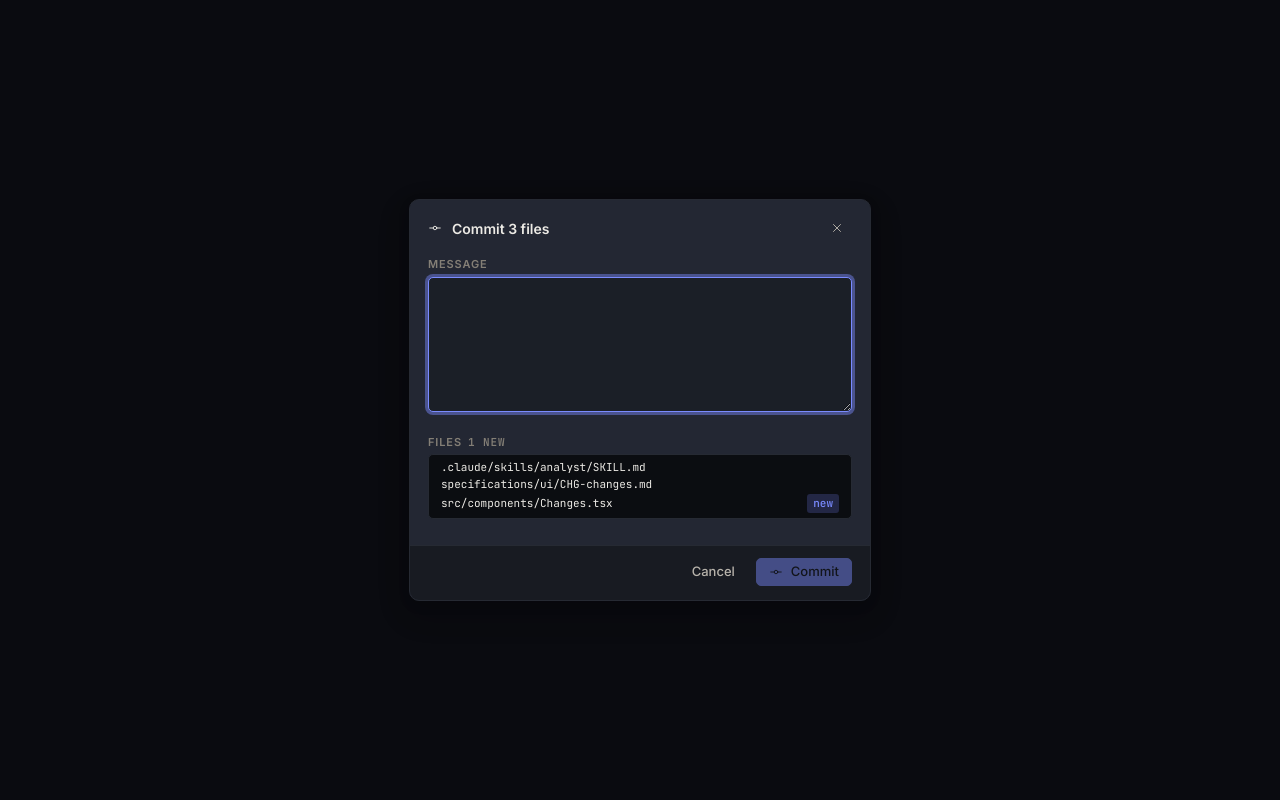
it: committing › CMW-FR-08, GTC-FR-20 keeps the window open with the message intact when the commit is rejected
The image size is (1280, 800).
Step 1. Type "add analyst skill" into the text box named "Commit message" → (640, 344), box x1=428 y1=277 x2=852 y2=412
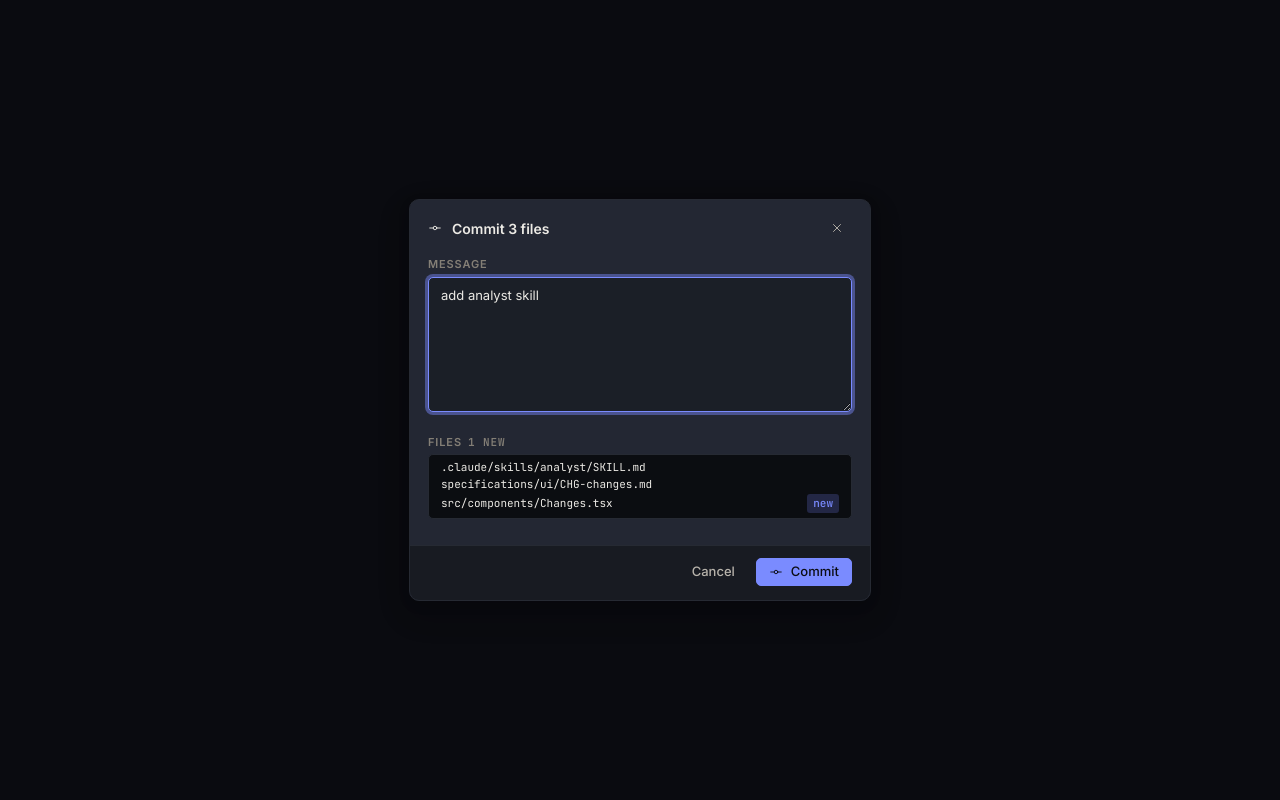
Step 2. Click the button "Commit" → (804, 572), box x1=756 y1=558 x2=852 y2=586
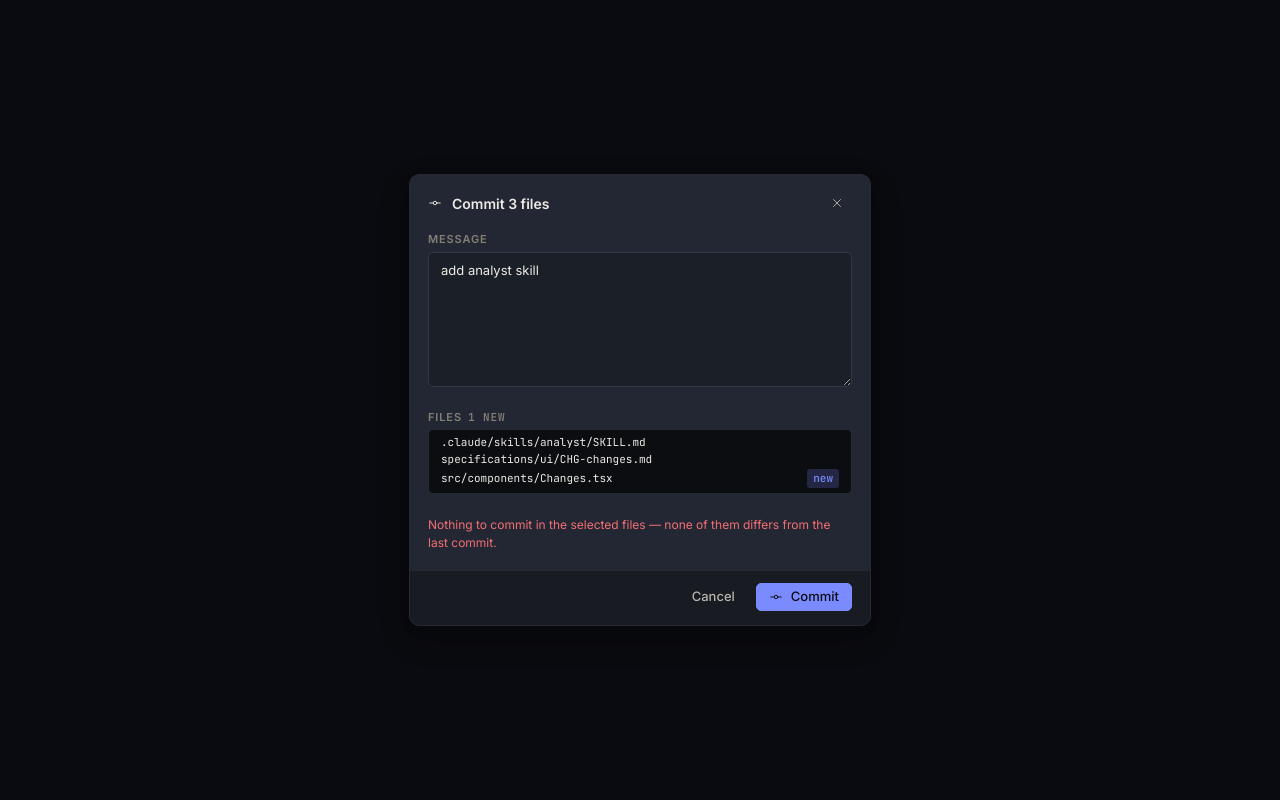
Expected: the text box named "Commit message" is enabled, x1=428 y1=252 x2=852 y2=387
Now the message with test id "commit-error" shows "Nothing to commit in the selected files", box x1=428 y1=517 x2=830 y2=550
